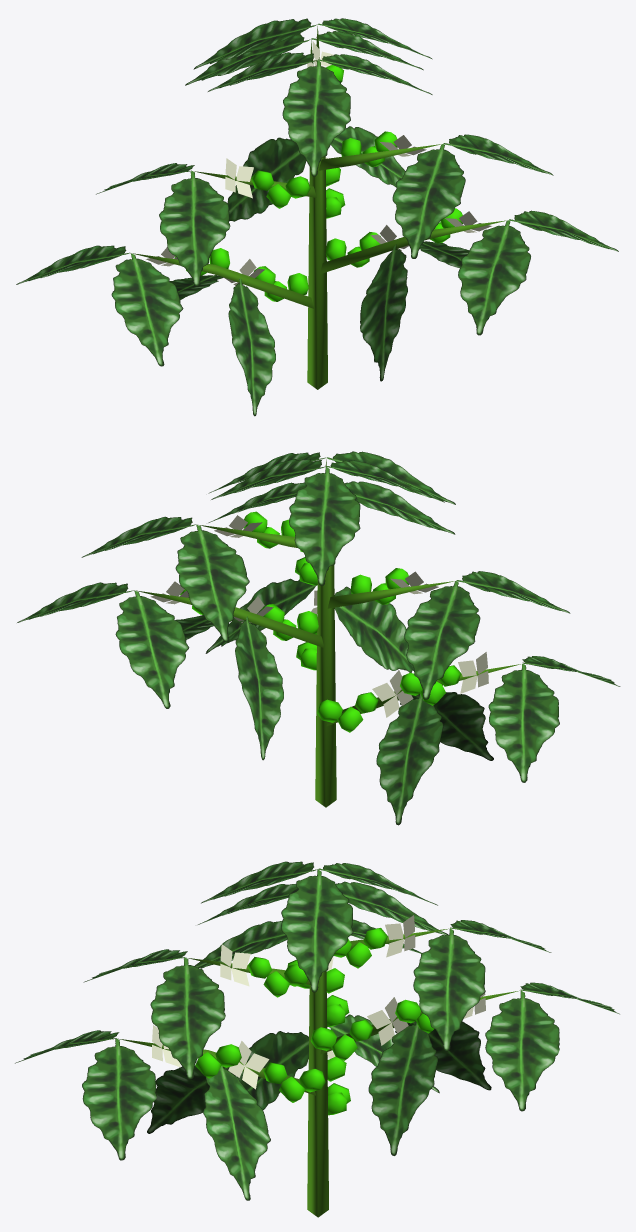
Rendered from café verde.fbx.
3 views of the same model, one above another, from view 1: azimuth 30°, elevation 25°; view 2: azimuth 150°, elevation 25°; view 3: azimuth 270°, elevation 25° (orthographic). The views are drawn at different scales.
Visible parts, largest first — view 1: café verde; view 2: café verde; view 3: café verde.
Boxes of the visible parts, box(x1,y1,x2,y2) form: café verde: box(16, 18, 618, 416); café verde: box(17, 451, 620, 825); café verde: box(15, 861, 619, 1217).
Size of the model in its own units: 537 by 358 by 576.
Materials: 4 (1 with a texture image).
